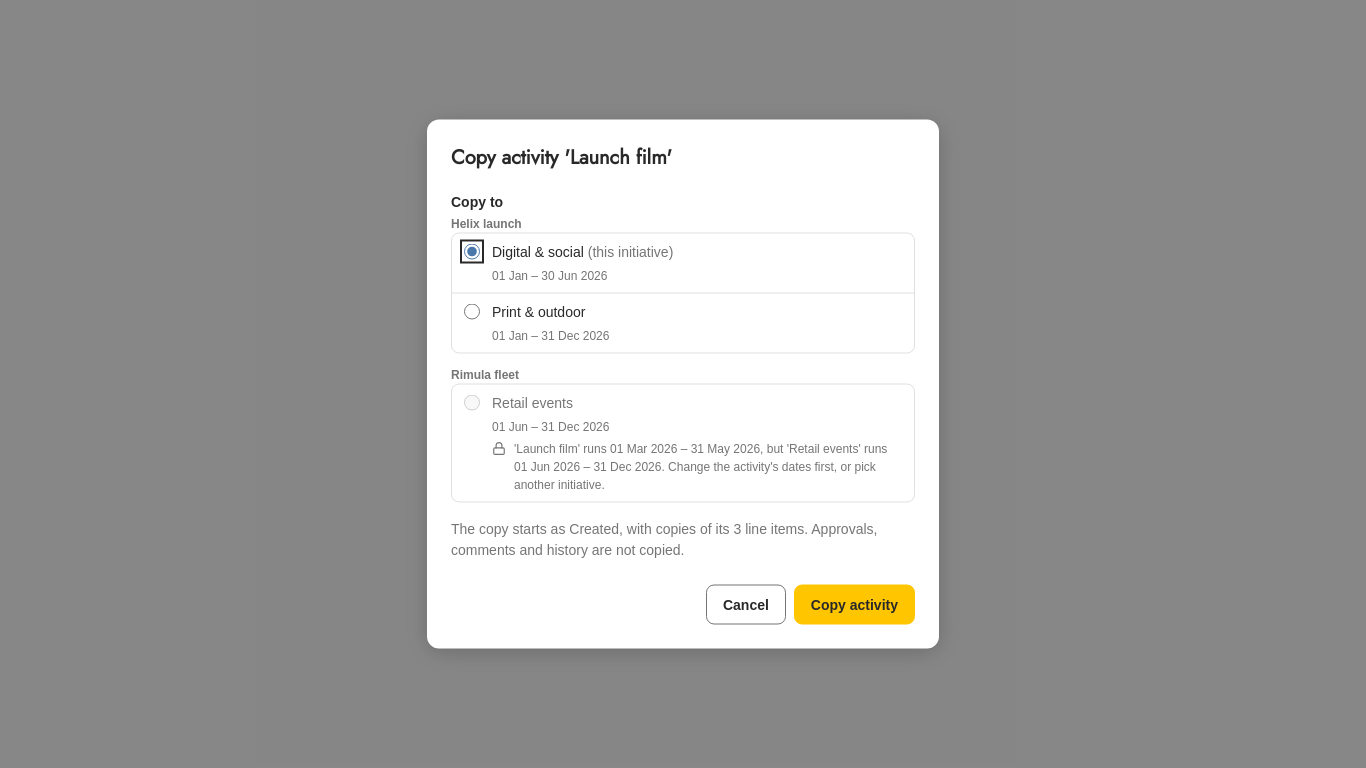
it: CopyActivityDialog (feature 006, US5#2, FR-030) › copies into the chosen initiative and opens the copy (US5#2)
The image size is (1366, 768).
Click the radio button labelled "Print & outdoor" at (472, 312), box 464,304 -> 480,320
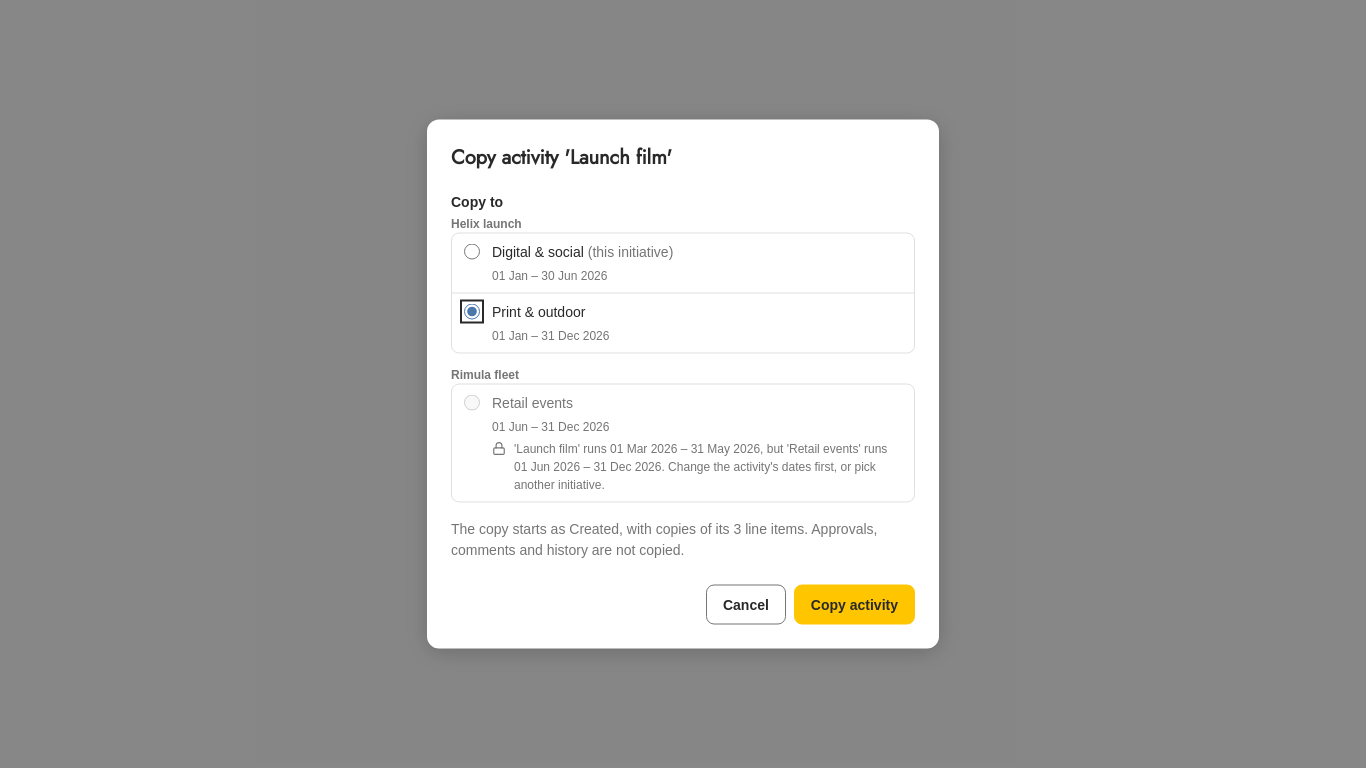
Click the button "Copy activity" at (854, 604), box 794,584 -> 915,624
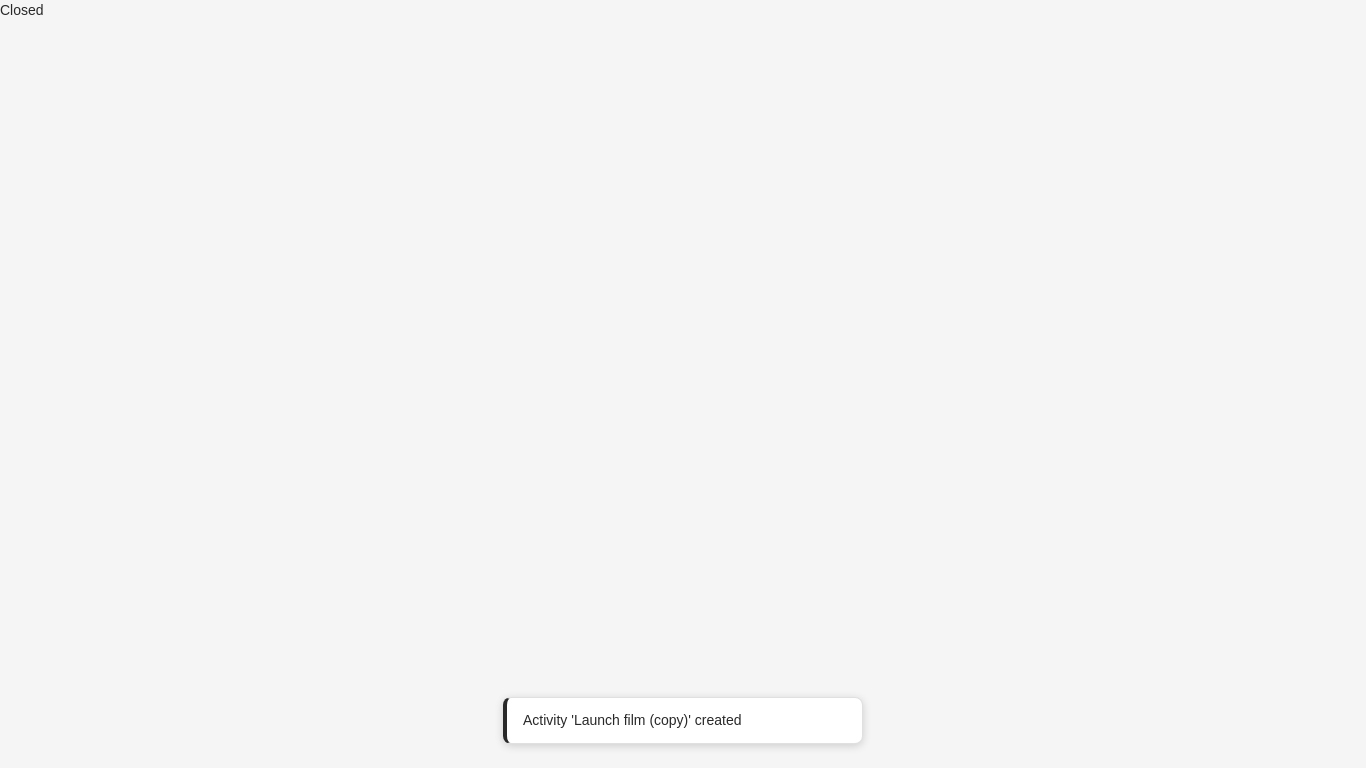
Check: the text "Closed" is shown, box 0,2 -> 44,18
